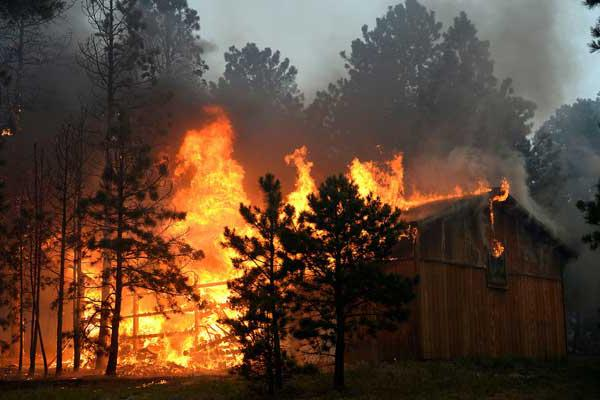fire: (43, 107, 276, 376), (342, 155, 415, 208), (284, 140, 325, 223), (421, 179, 516, 206)
